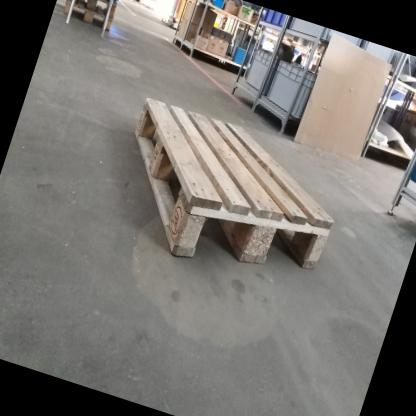BoxFace: (131, 91, 339, 274)
